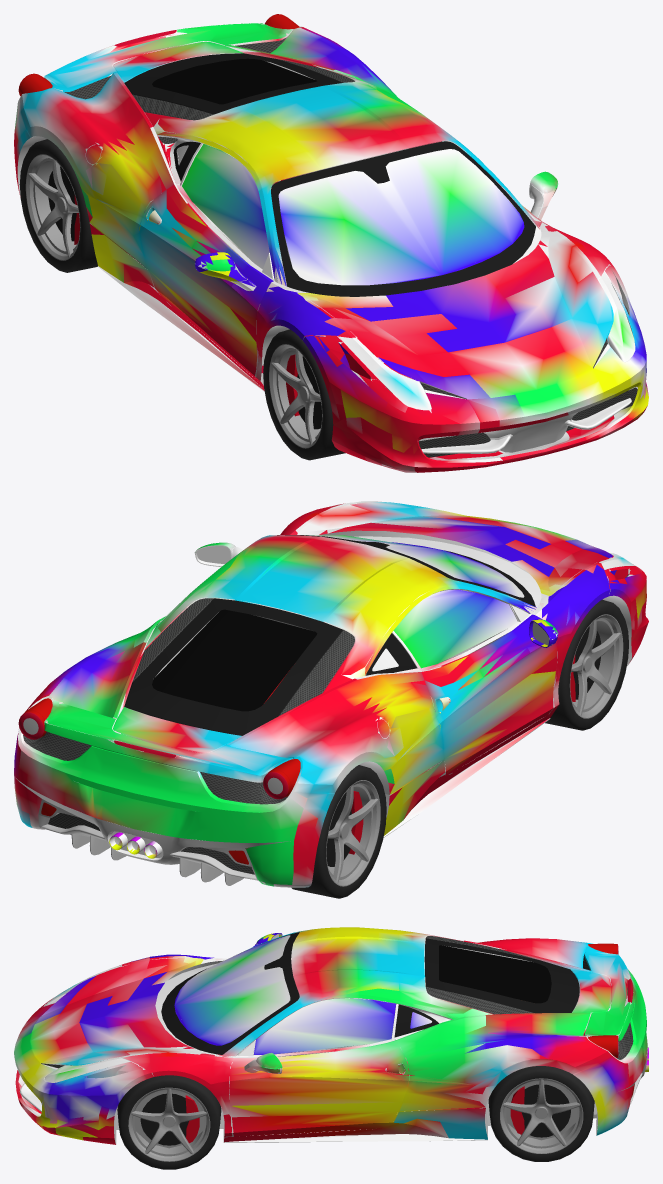
Rendered from Ferarri Italia.fbx.
3 views of the same model, one above another, from view 1: azimuth 30°, elevation 25°; view 2: azimuth 150°, elevation 25°; view 3: azimuth 270°, elevation 25° (orthographic). The views are drawn at different scales.
Parts seen in each view (by area): view 1: object.000, object.019, object.014, object.007, object.020, object.006, object.032, object.029, object.018, object.031, object.028, object.016; view 2: object.000, object.014, object.020, object.019, object.006, object.007, object.005, object.029, object.032, object.031, object.028, object.016 (+3 smaller); view 3: object.000, object.019, object.014, object.020, object.007, object.035, object.038, object.034, object.037, object.006, object.024, object.027 (+4 smaller).
Boxes of the visible parts, <box> form: object.000: <box>14,23,648,472</box>; object.019: <box>176,144,524,285</box>; object.014: <box>124,53,535,296</box>; object.007: <box>17,134,637,454</box>; object.020: <box>152,58,316,104</box>; object.006: <box>64,37,637,457</box>; object.032: <box>25,154,80,260</box>; object.029: <box>269,344,322,448</box>; object.018: <box>339,272,635,409</box>; object.031: <box>19,139,97,272</box>; object.028: <box>263,329,345,460</box>; object.016: <box>18,14,299,96</box>; object.000: <box>14,502,648,887</box>; object.014: <box>124,535,535,735</box>; object.020: <box>152,609,317,711</box>; object.019: <box>304,535,524,671</box>; object.006: <box>23,574,629,874</box>; object.007: <box>107,530,631,860</box>; object.005: <box>15,612,334,885</box>; object.029: <box>569,614,623,718</box>; object.032: <box>326,780,380,886</box>; object.031: <box>291,765,386,898</box>; object.028: <box>545,599,628,730</box>; object.016: <box>24,698,300,864</box>; object.000: <box>14,927,647,1144</box>; object.019: <box>174,935,431,1054</box>; object.014: <box>161,932,579,1054</box>; object.020: <box>439,945,551,1003</box>; object.007: <box>19,960,647,1144</box>; object.035: <box>500,1078,583,1153</box>; object.038: <box>128,1087,210,1161</box>; object.034: <box>488,1066,594,1161</box>; object.037: <box>117,1075,221,1169</box>; object.006: <box>41,936,633,1068</box>; object.024: <box>521,1084,570,1137</box>; object.027: <box>140,1093,188,1145</box>.
Size of the model in its own units: 227 by 128 by 453.
